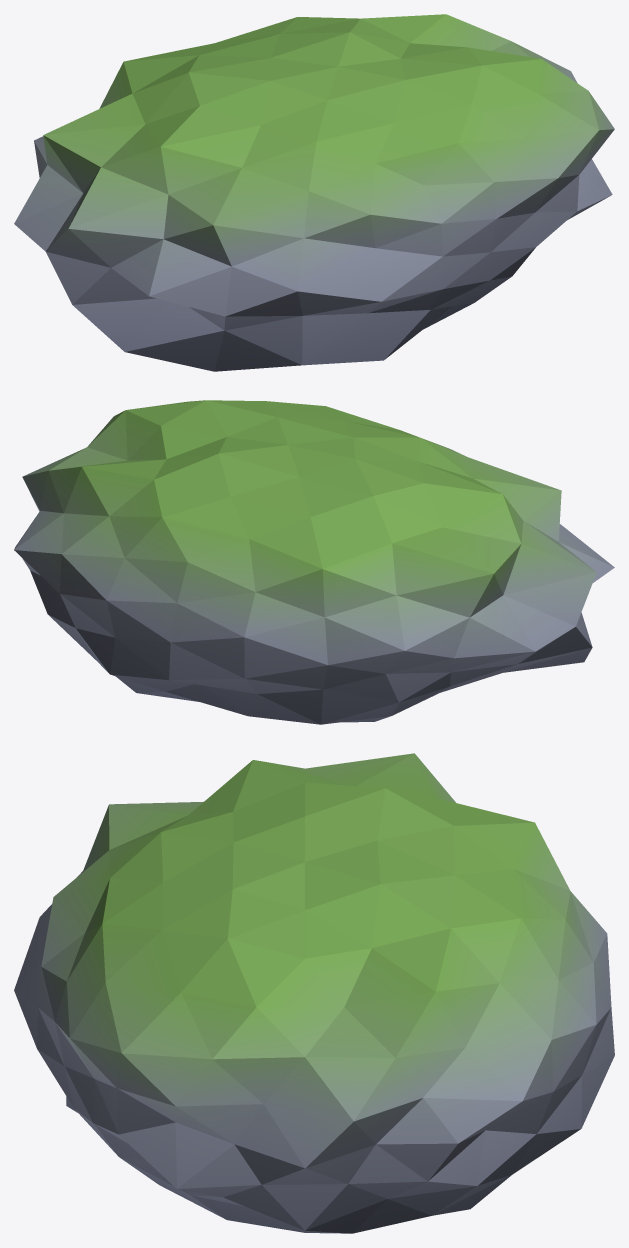
The model's file is rock_b.glb.
3 views of the same model, one above another, from view 1: azimuth 30°, elevation 25°; view 2: azimuth 150°, elevation 25°; view 3: azimuth 270°, elevation 25° (orthographic). The views are drawn at different scales.
Parts seen in each view (by area): view 1: rock_b; view 2: rock_b; view 3: rock_b.
Part boxes in pixels (x1,y1,x2,y2): rock_b: [14, 14, 614, 371]; rock_b: [14, 400, 614, 724]; rock_b: [14, 753, 614, 1233].
Size of the model in its own units: 1.67 by 0.7067 by 1.23.
